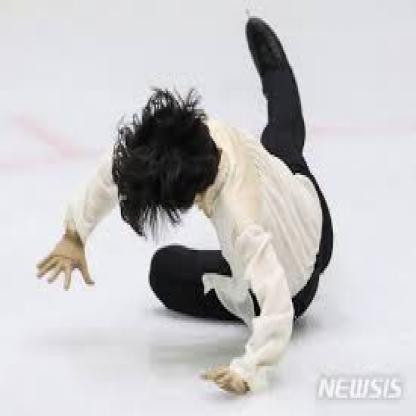Fall_Down: (34, 13, 340, 402)
